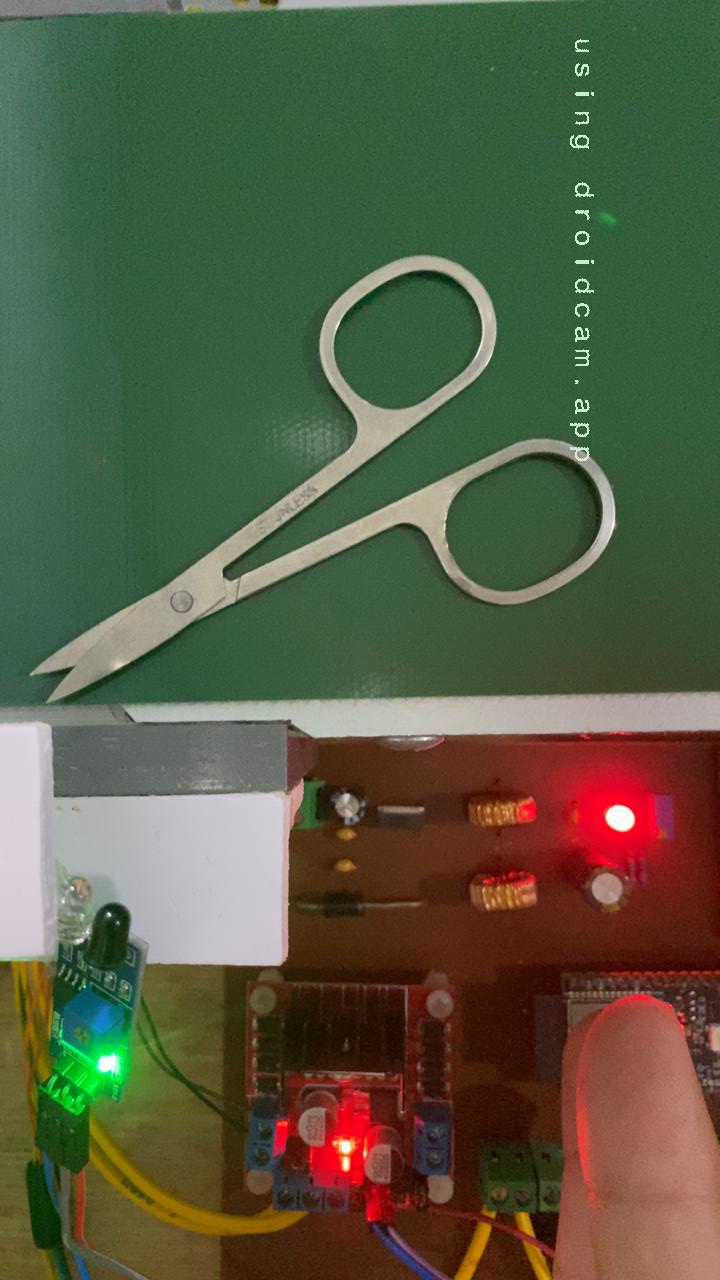scissor: (26, 249, 626, 698)
